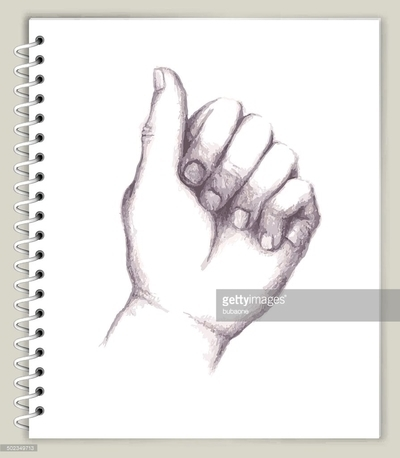closedhandfront: (109, 63, 322, 332)
